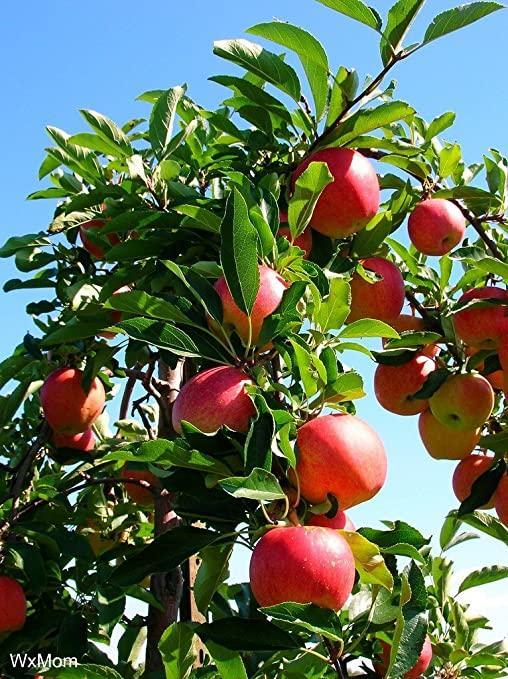apple: (290, 410, 387, 517), (247, 527, 357, 617), (292, 148, 380, 240), (170, 369, 254, 441), (208, 269, 282, 341), (451, 296, 507, 384), (425, 366, 493, 431), (344, 255, 404, 327), (373, 348, 432, 416), (40, 371, 104, 433), (406, 196, 466, 257), (418, 408, 478, 458), (452, 454, 501, 509)
